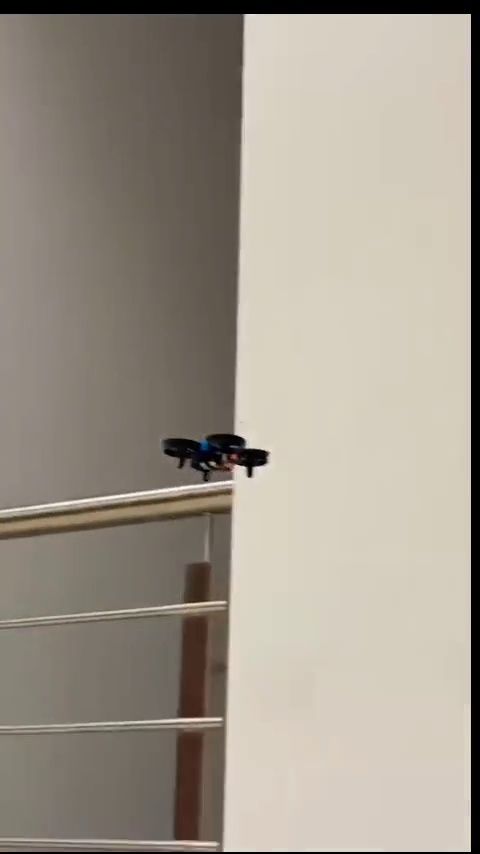drone: (164, 429, 273, 485)
